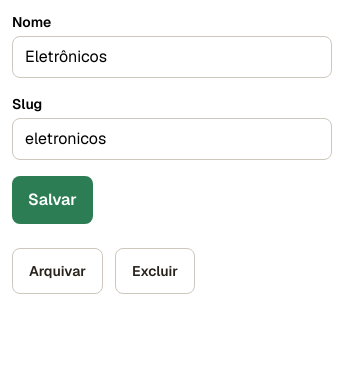
Test: CategoryDetail › UXA-001: erro de ação (falha ao arquivar) é anunciado via role="alert"
This screenshot has width=349, height=381.
Click the button "Arquivar": click(58, 271) [12,248,103,294]
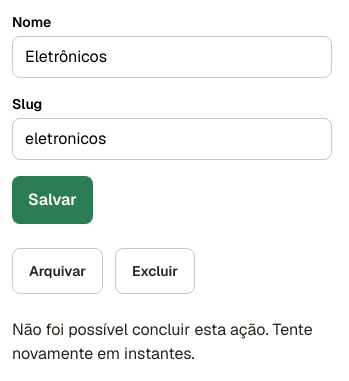
Expected: the message reads "Não foi possível concluir esta ação. Tente novamente em instantes.", [12,319,313,364]
